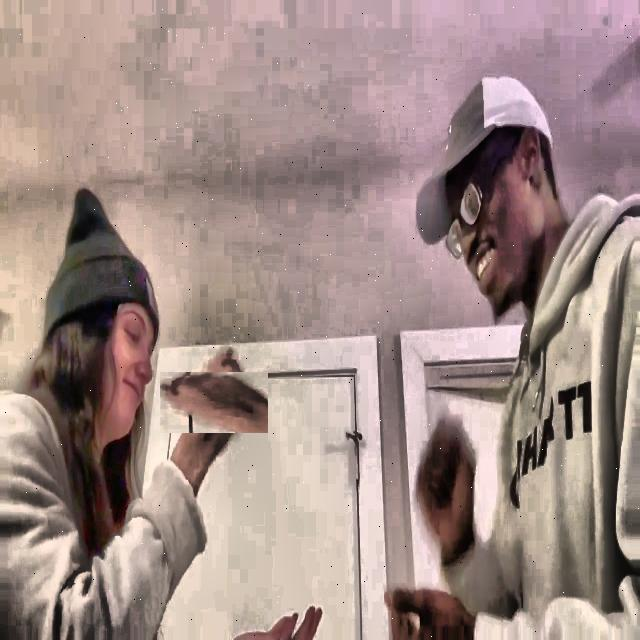not-gloved: (412, 412, 474, 544), (172, 360, 256, 445)
